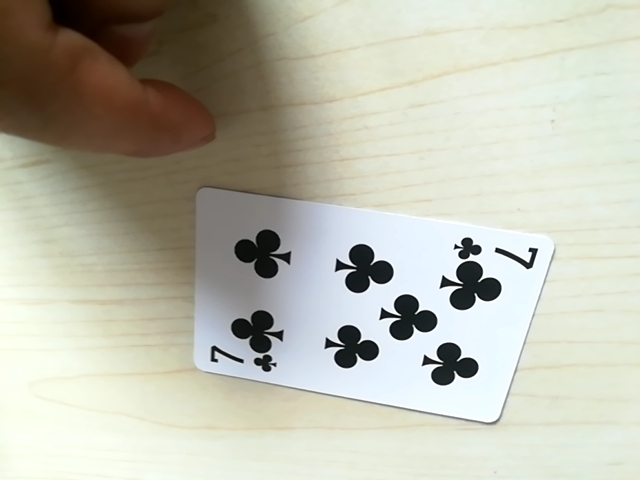mh 7: (205, 344, 276, 379), (458, 233, 533, 265)
